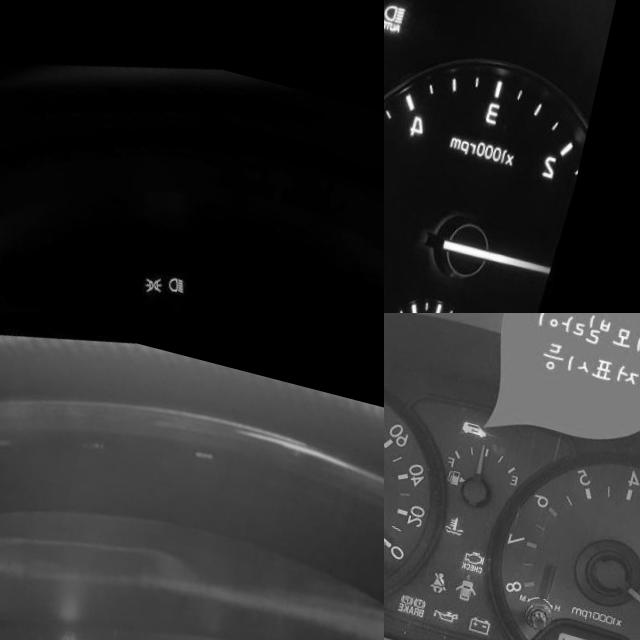FrontFogLight: (71, 619, 96, 640)
High Engine Coolant Temperature: (459, 500, 482, 523)
Low beam: (178, 258, 198, 281)
SideLamp: (154, 259, 177, 283)
